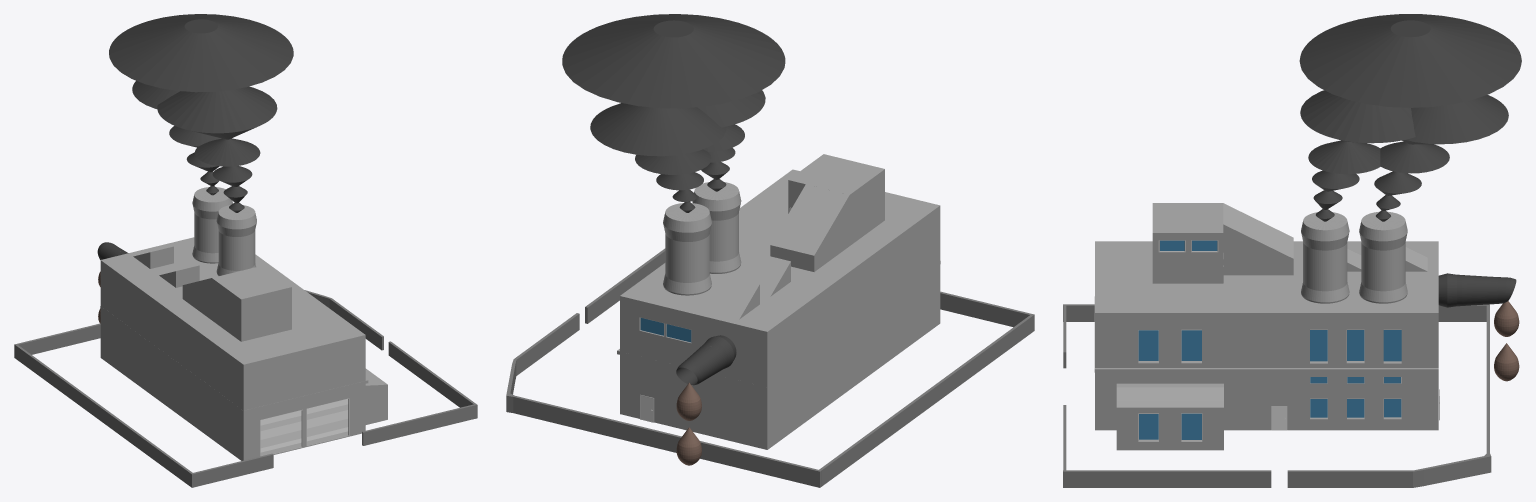
The model's file is Factory_model.fbx.
The picture shows the model from 3 angles, left to right: view 1: azimuth 30°, elevation 25°; view 2: azimuth 150°, elevation 25°; view 3: azimuth 270°, elevation 25°; orthographic projection. The views are drawn at different scales.
Parts seen in each view (by area): view 1: Factory; view 2: Factory; view 3: Factory.
Boxes of the visible parts, x1,y1,x2,y2 form: Factory: (14, 14, 477, 487); Factory: (506, 14, 1034, 487); Factory: (1063, 14, 1521, 487).
Bounding box in the file's own units: 601 × 643 × 696.
